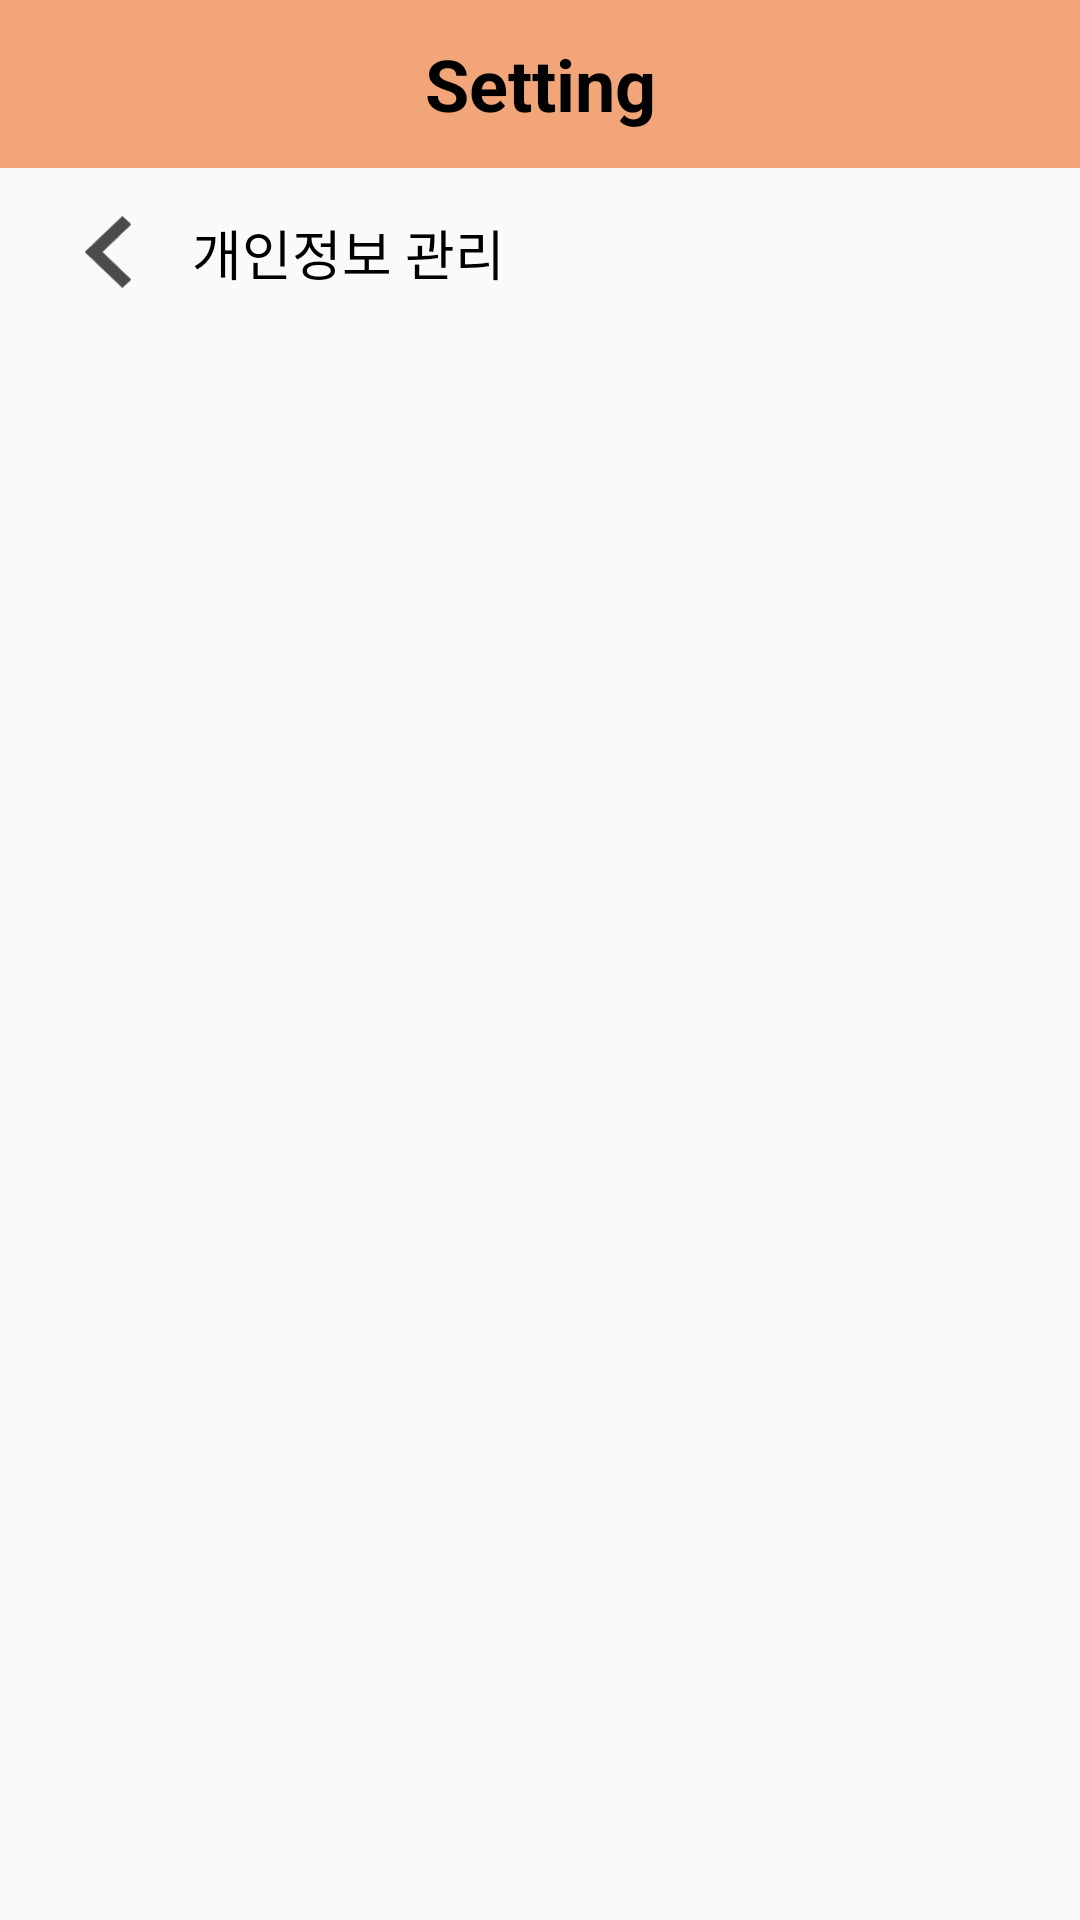

Icon bounding boxes for this 1080 × 1920 phone screenshot, format (x1, y1, x2, y2):
back: (85, 216, 131, 288)
